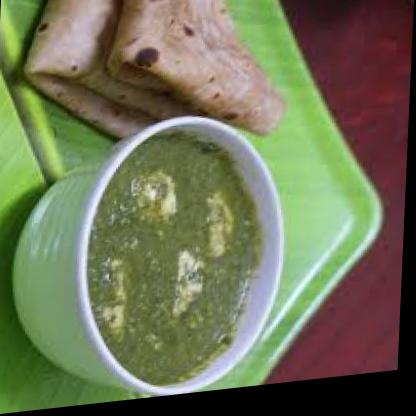palak_paneer: (84, 130, 265, 397)
